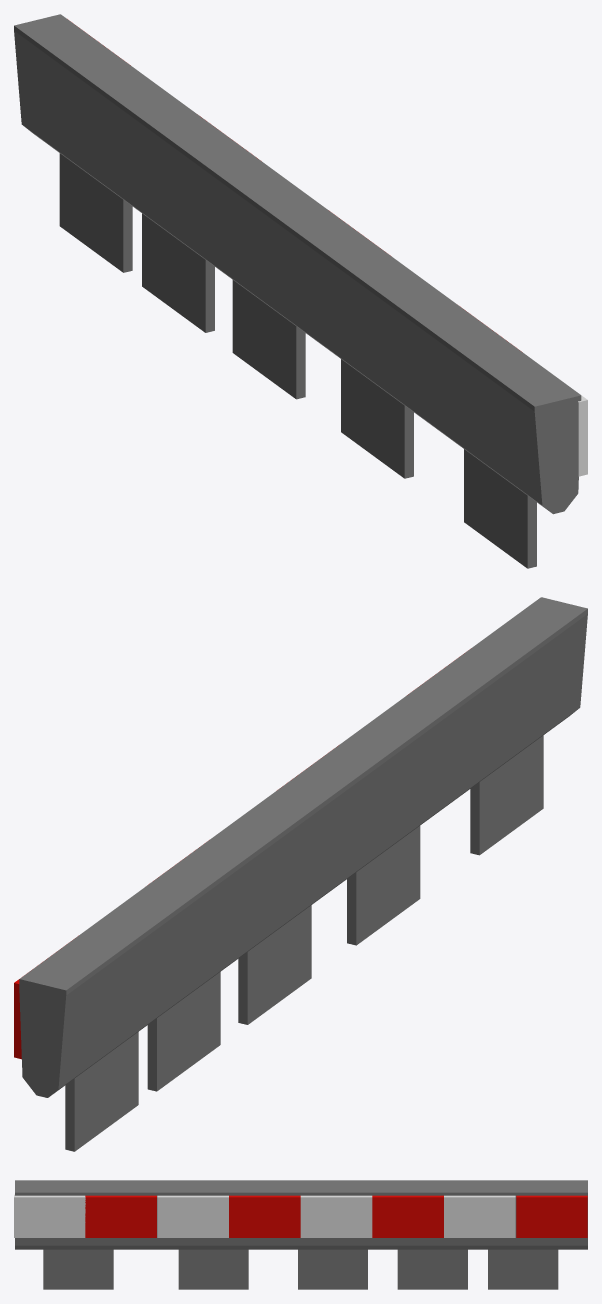
Rendered from border.fbx.
The picture shows the model from 3 angles, top to bottom: view 1: azimuth 30°, elevation 25°; view 2: azimuth 150°, elevation 25°; view 3: azimuth 270°, elevation 25°; orthographic projection. The views are drawn at different scales.
Visible parts, largest first — view 1: Cube.005, Cube.001, Cube.002, Cube.003, Cube.004, Cube, Cube.013; view 2: Cube.005, Cube.003, Cube.004, Cube.001, Cube.002, Cube; view 3: Cube.005, Cube.009, Cube.006, Cube.007, Cube.008, Cube.010, Cube.011, Cube.012, Cube.013, Cube.004, Cube, Cube.001 (+2 smaller).
Boxes of the visible parts, left/top/right/bottom form: Cube.005: left=14, top=14, right=581, bottom=514; Cube.001: left=59, top=153, right=132, bottom=272; Cube.002: left=232, top=280, right=305, bottom=399; Cube.003: left=341, top=359, right=413, bottom=478; Cube.004: left=464, top=449, right=536, bottom=568; Cube: left=142, top=213, right=214, bottom=332; Cube.013: left=528, top=356, right=587, bottom=476; Cube.005: left=19, top=597, right=587, bottom=1097; Cube.003: left=347, top=826, right=420, bottom=945; Cube.004: left=470, top=735, right=543, bottom=855; Cube.001: left=65, top=1032, right=138, bottom=1151; Cube.002: left=238, top=905, right=311, bottom=1024; Cube: left=147, top=972, right=220, bottom=1091; Cube.005: left=15, top=1180, right=587, bottom=1249; Cube.009: left=300, top=1195, right=372, bottom=1237; Cube.006: left=516, top=1195, right=587, bottom=1237; Cube.007: left=444, top=1195, right=515, bottom=1237; Cube.008: left=372, top=1195, right=443, bottom=1237; Cube.010: left=229, top=1195, right=300, bottom=1237; Cube.011: left=157, top=1195, right=228, bottom=1237; Cube.012: left=85, top=1195, right=156, bottom=1237; Cube.013: left=14, top=1194, right=85, bottom=1237; Cube.004: left=43, top=1249, right=113, bottom=1289; Cube: left=397, top=1249, right=467, bottom=1289; Cube.001: left=488, top=1249, right=558, bottom=1289.
Bounding box in the file's own units: 97.68 × 331 × 1689.
